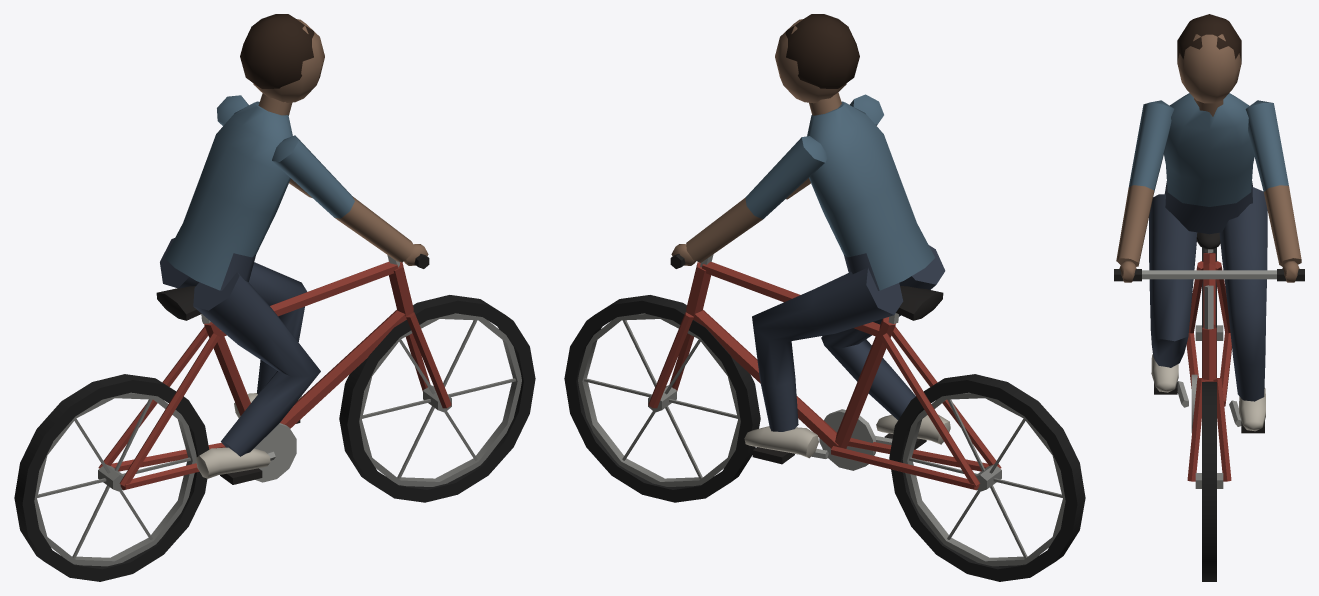
File: actor-cyclist.glb
3 views of the same model, side by side, from view 1: azimuth 30°, elevation 25°; view 2: azimuth 150°, elevation 25°; view 3: azimuth 270°, elevation 25° (orthographic). The views are drawn at different scales.
Parts seen in each view (by area): view 1: body, wheel_b, wheel_f, leg_r, head, leg_l; view 2: body, wheel_b, wheel_f, leg_l, head, leg_r; view 3: body, leg_l, leg_r, head, wheel_f, wheel_b.
Boxes of the visible parts, left/top/right/bottom form: body: left=98, top=95, right=451, bottom=490; wheel_b: left=14, top=374, right=209, bottom=581; wheel_f: left=339, top=295, right=535, bottom=502; leg_r: left=193, top=272, right=320, bottom=478; head: left=240, top=14, right=324, bottom=115; leg_l: left=160, top=238, right=307, bottom=418; body: left=648, top=94, right=1001, bottom=490; wheel_b: left=889, top=374, right=1085, bottom=581; wheel_f: left=564, top=295, right=760, bottom=502; leg_l: left=744, top=267, right=903, bottom=458; head: left=775, top=14, right=859, bottom=115; leg_r: left=821, top=245, right=950, bottom=444; body: left=1114, top=93, right=1304, bottom=481; leg_l: left=1219, top=187, right=1267, bottom=431; leg_r: left=1149, top=194, right=1197, bottom=392; head: left=1177, top=14, right=1241, bottom=116; wheel_f: left=1195, top=381, right=1223, bottom=581; wheel_b: left=1195, top=247, right=1223, bottom=377.
Bounding box in the file's own units: 1.39 × 1.34 × 0.48.
